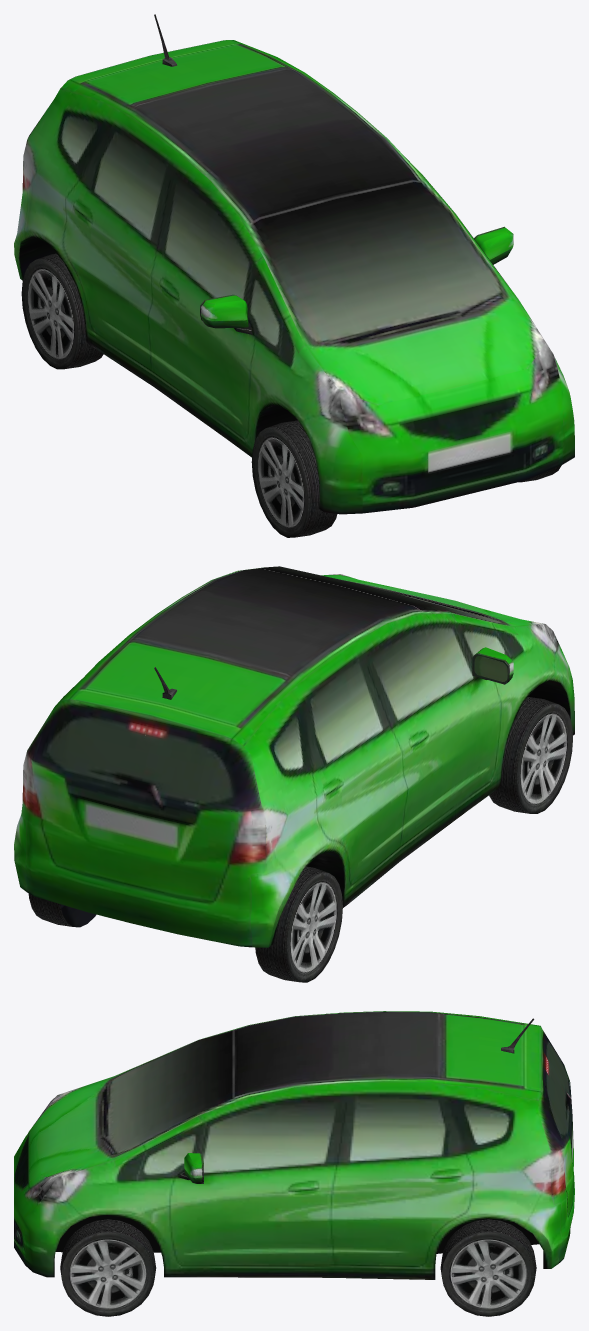
The model's file is traffic-hatch-green.glb.
3 renders of one model, top to bottom at view 1: azimuth 30°, elevation 25°; view 2: azimuth 150°, elevation 25°; view 3: azimuth 270°, elevation 25°, orthographic. The views are drawn at different scales.
Visible parts, largest first — view 1: Object_368; view 2: Object_368; view 3: Object_368.
Part boxes in pixels (left/top/right/bottom): Object_368: left=14, top=14, right=574, bottom=537; Object_368: left=14, top=566, right=574, bottom=982; Object_368: left=14, top=1011, right=574, bottom=1316.
Bounding box in the file's own units: 0.1474 × 0.1374 × 0.2807.
Materials: 1 (1 with a texture image).
